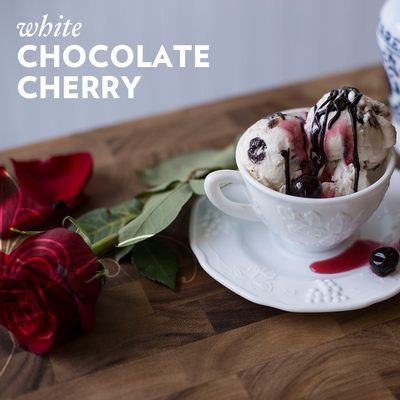pizza: (204, 88, 397, 257)
sushi: (205, 89, 398, 257)
